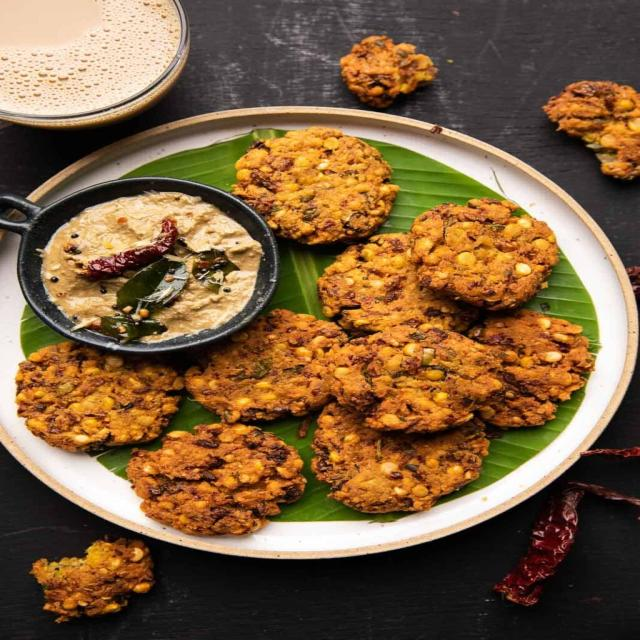VADA: (10, 128, 598, 544)
WHITE CHUTNEY: (37, 192, 269, 343)
